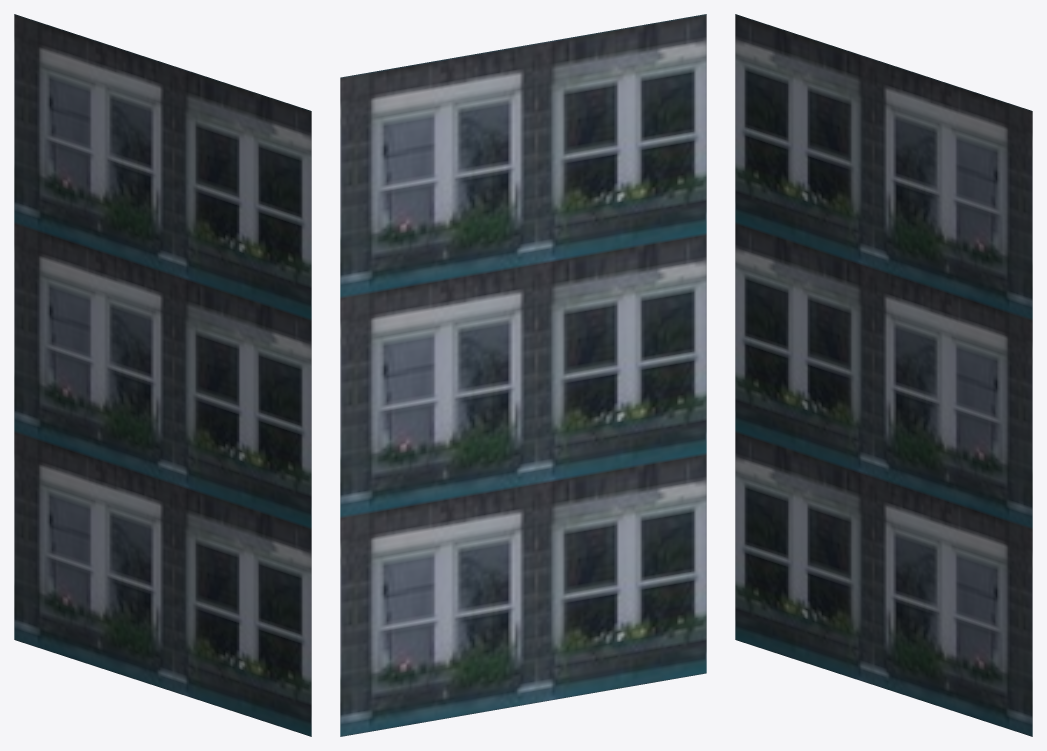
The model's file is ResTex__3691.fbx.
3 views of the same model, side by side, from view 1: azimuth 90°, elevation 25°; view 2: azimuth 150°, elevation 25°; view 3: azimuth 270°, elevation 25° (orthographic). The views are drawn at different scales.
Visible parts, largest first — view 1: CityEngineMaterial_11_m; view 2: CityEngineMaterial_11_m; view 3: CityEngineMaterial_11_m.
Part boxes in pixels (bbox=[...]): CityEngineMaterial_11_m: bbox=[14, 14, 311, 736]; CityEngineMaterial_11_m: bbox=[340, 14, 706, 736]; CityEngineMaterial_11_m: bbox=[735, 14, 1032, 736].
Size of the model in its own units: 2.99 by 9 by 3.87.
1 material, 1 textured.
